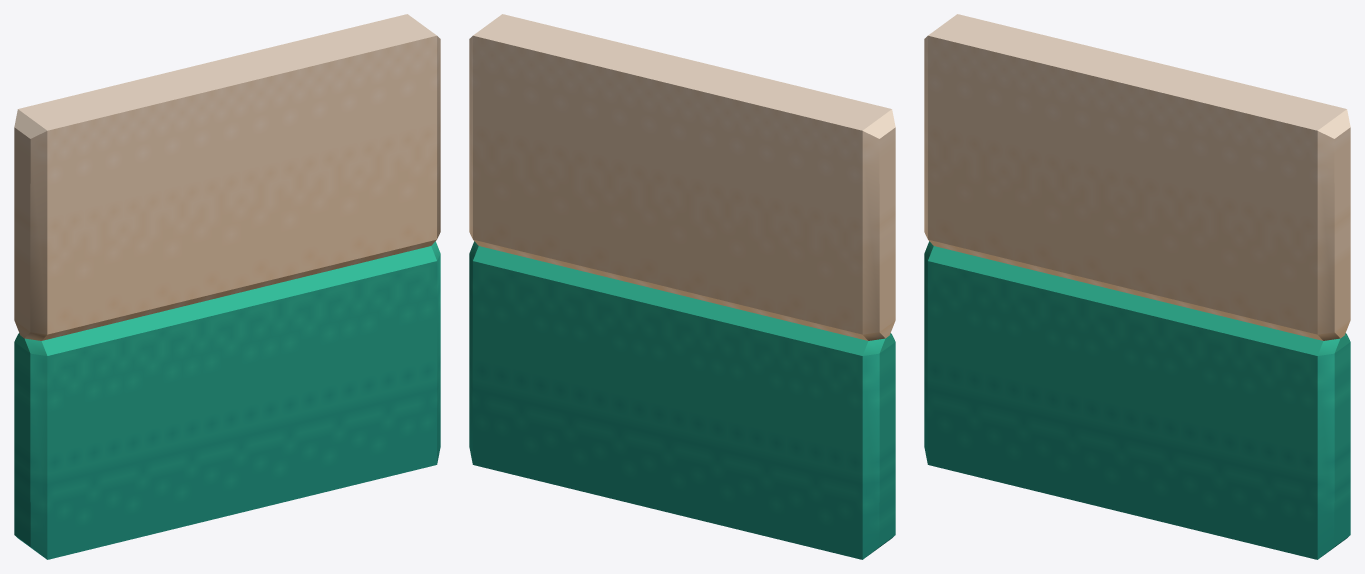
Rendered from wall.gltf.
3 renders of one model, left to right at view 1: azimuth 30°, elevation 25°; view 2: azimuth 150°, elevation 25°; view 3: azimuth 330°, elevation 25°, orthographic.
Parts seen in each view (by area): view 1: wall; view 2: wall; view 3: wall.
Part boxes in pixels (<box>): wall: <box>14,14,440,559</box>; wall: <box>469,14,895,559</box>; wall: <box>924,14,1350,559</box>.
Size of the model in its own units: 4 by 4 by 0.5.
Materials: 1 (1 with a texture image).
